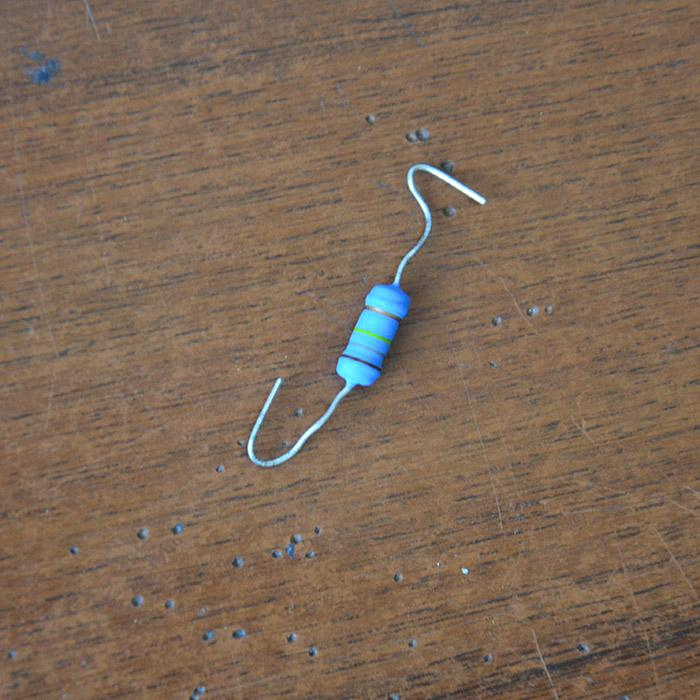resistor: (338, 283, 409, 385)
